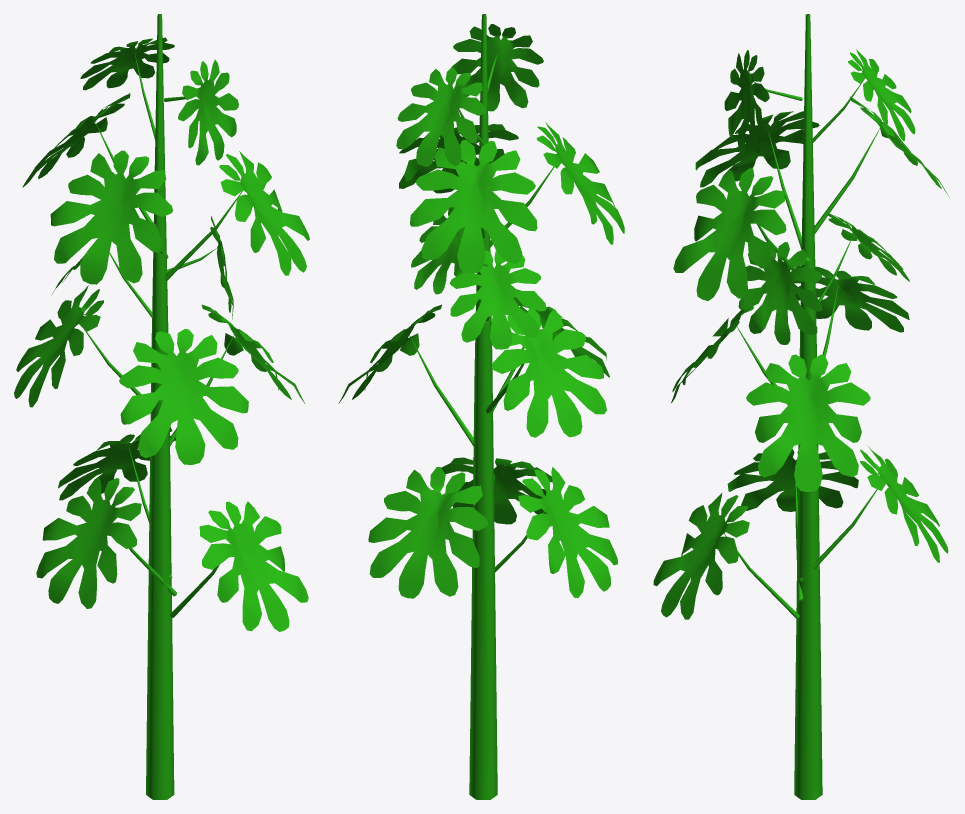
Rendered from planta_cecropia_spp.fbx.
3 views of the same model, side by side, from view 1: azimuth 30°, elevation 25°; view 2: azimuth 150°, elevation 25°; view 3: azimuth 270°, elevation 25° (orthographic).
Parts seen in each view (by area): view 1: base stem.006; view 2: base stem.006; view 3: base stem.006.
Boxes of the visible parts, <box> form: base stem.006: <box>14,14,309,799</box>; base stem.006: <box>338,14,624,799</box>; base stem.006: <box>653,14,949,799</box>.
Bounding box in the file's own units: 520 × 1528 × 528.
Materials: 1 (1 with a texture image).
